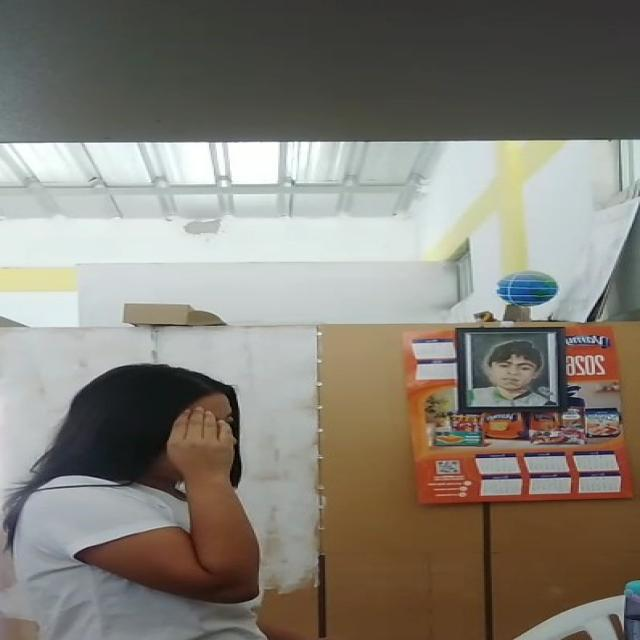7_mano_rostro: (168, 408, 260, 512)
